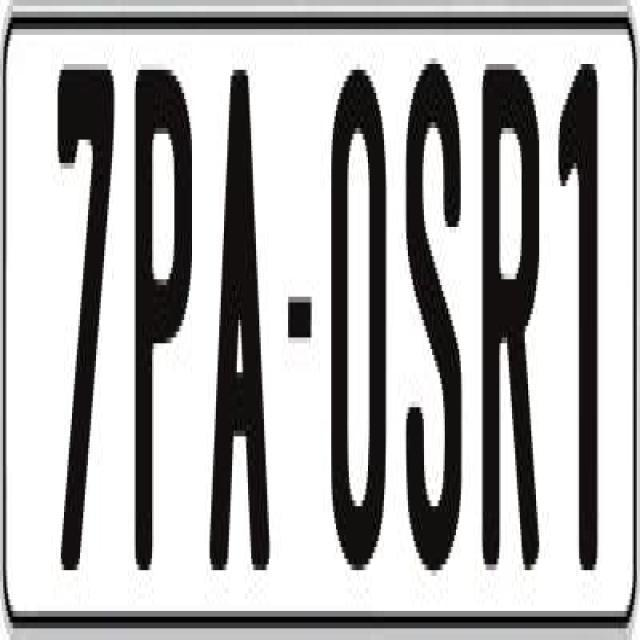0: (329, 58, 394, 559)
1: (558, 47, 602, 570)
7: (57, 52, 116, 570)
A: (210, 70, 276, 570)
P: (134, 70, 198, 570)
S: (402, 52, 466, 588)
